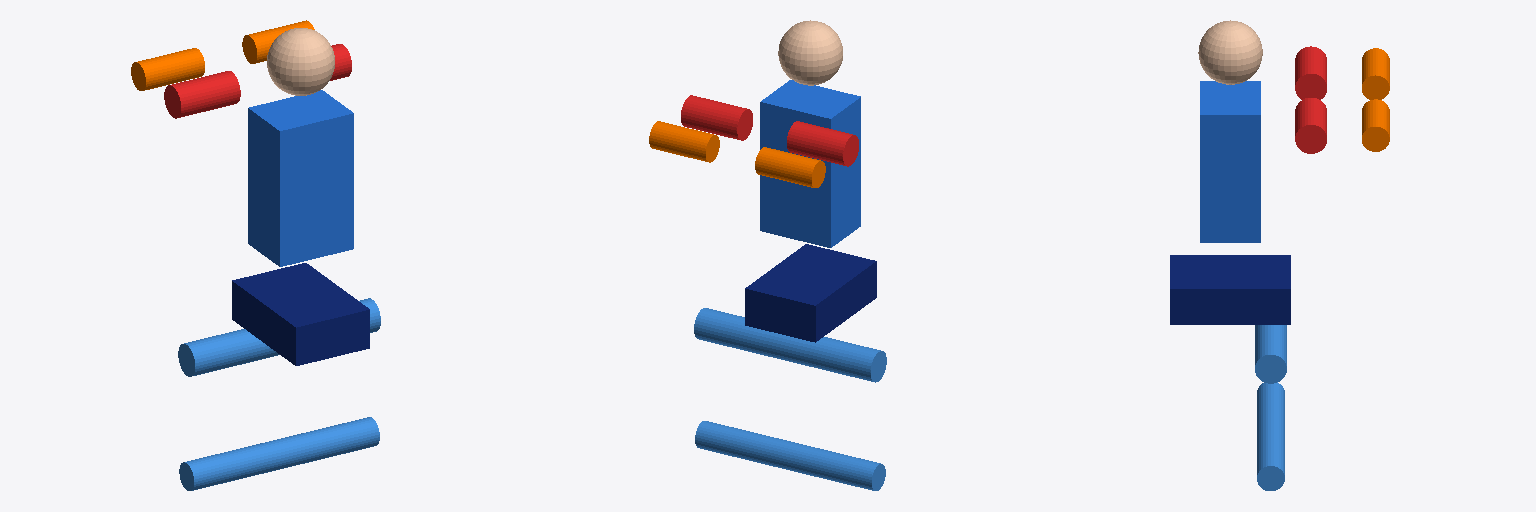
URDF robot description (humanoid_robot_v2):
<?xml version="1.0" ?>
<robot name="humanoid_robot_v2">
  <!-- 简化的人形机器人，带有腿部支撑 -->
  
  <!-- 基座 (脚) -->
  <link name="base_link">
    <inertial>
      <origin xyz="0 0 0.05"/>
      <mass value="3.0"/>
      <inertia ixx="0.05" ixy="0" ixz="0" iyy="0.05" iyz="0" izz="0.08"/>
    </inertial>
    <visual>
      <geometry>
        <box size="0.2 0.3 0.1"/>
      </geometry>
      <origin xyz="0 0 0.05"/>
      <material name="dark_blue">
        <color rgba="0.1 0.2 0.5 1"/>
      </material>
    </visual>
    <collision>
      <geometry>
        <box size="0.2 0.3 0.1"/>
      </geometry>
      <origin xyz="0 0 0.05"/>
    </collision>
  </link>

  <!-- 左腿上部 -->
  <joint name="left_hip" type="revolute">
    <parent link="base_link"/>
    <child link="left_thigh_link"/>
    <origin xyz="-0.1 0.1 0.1" rpy="0 0 0"/>
    <axis xyz="1 0 0"/>
    <limit lower="-0.5" upper="0.5" effort="100" velocity="2.0"/>
  </joint>

  <link name="left_thigh_link">
    <inertial>
      <origin xyz="0 0 -0.15"/>
      <mass value="2.0"/>
      <inertia ixx="0.02" ixy="0" ixz="0" iyy="0.02" iyz="0" izz="0.01"/>
    </inertial>
    <visual>
      <geometry>
        <cylinder length="0.3" radius="0.04"/>
      </geometry>
      <origin xyz="0 0 -0.15" rpy="0 1.5707 0"/>
      <material name="light_blue">
        <color rgba="0.3 0.6 0.9 1"/>
      </material>
    </visual>
    <collision>
      <geometry>
        <cylinder length="0.3" radius="0.04"/>
      </geometry>
      <origin xyz="0 0 -0.15" rpy="0 1.5707 0"/>
    </collision>
  </link>

  <!-- 左腿下部 -->
  <joint name="left_knee" type="revolute">
    <parent link="left_thigh_link"/>
    <child link="left_calf_link"/>
    <origin xyz="0 0 -0.3" rpy="0 0 0"/>
    <axis xyz="1 0 0"/>
    <limit lower="0" upper="0.5" effort="100" velocity="2.0"/>
  </joint>

  <link name="left_calf_link">
    <inertial>
      <origin xyz="0 0 -0.15"/>
      <mass value="1.5"/>
      <inertia ixx="0.015" ixy="0" ixz="0" iyy="0.015" iyz="0" izz="0.005"/>
    </inertial>
    <visual>
      <geometry>
        <cylinder length="0.3" radius="0.035"/>
      </geometry>
      <origin xyz="0 0 -0.15" rpy="0 1.5707 0"/>
      <material name="light_blue">
        <color rgba="0.3 0.6 0.9 1"/>
      </material>
    </visual>
    <collision>
      <geometry>
        <cylinder length="0.3" radius="0.035"/>
      </geometry>
      <origin xyz="0 0 -0.15" rpy="0 1.5707 0"/>
    </collision>
  </link>

  <!-- 右腿上部 -->
  <joint name="right_hip" type="revolute">
    <parent link="base_link"/>
    <child link="right_thigh_link"/>
    <origin xyz="0.1 0.1 0.1" rpy="0 0 0"/>
    <axis xyz="1 0 0"/>
    <limit lower="-0.5" upper="0.5" effort="100" velocity="2.0"/>
  </joint>

  <link name="right_thigh_link">
    <inertial>
      <origin xyz="0 0 -0.15"/>
      <mass value="2.0"/>
      <inertia ixx="0.02" ixy="0" ixz="0" iyy="0.02" iyz="0" izz="0.01"/>
    </inertial>
    <visual>
      <geometry>
        <cylinder length="0.3" radius="0.04"/>
      </geometry>
      <origin xyz="0 0 -0.15" rpy="0 1.5707 0"/>
      <material name="light_blue">
        <color rgba="0.3 0.6 0.9 1"/>
      </material>
    </visual>
    <collision>
      <geometry>
        <cylinder length="0.3" radius="0.04"/>
      </geometry>
      <origin xyz="0 0 -0.15" rpy="0 1.5707 0"/>
    </collision>
  </link>

  <!-- 右腿下部 -->
  <joint name="right_knee" type="revolute">
    <parent link="right_thigh_link"/>
    <child link="right_calf_link"/>
    <origin xyz="0 0 -0.3" rpy="0 0 0"/>
    <axis xyz="1 0 0"/>
    <limit lower="0" upper="0.5" effort="100" velocity="2.0"/>
  </joint>

  <link name="right_calf_link">
    <inertial>
      <origin xyz="0 0 -0.15"/>
      <mass value="1.5"/>
      <inertia ixx="0.015" ixy="0" ixz="0" iyy="0.015" iyz="0" izz="0.005"/>
    </inertial>
    <visual>
      <geometry>
        <cylinder length="0.3" radius="0.035"/>
      </geometry>
      <origin xyz="0 0 -0.15" rpy="0 1.5707 0"/>
      <material name="light_blue">
        <color rgba="0.3 0.6 0.9 1"/>
      </material>
    </visual>
    <collision>
      <geometry>
        <cylinder length="0.3" radius="0.035"/>
      </geometry>
      <origin xyz="0 0 -0.15" rpy="0 1.5707 0"/>
    </collision>
  </link>

  <!-- 躯干 -->
  <joint name="torso_joint" type="fixed">
    <parent link="base_link"/>
    <child link="torso_link"/>
    <origin xyz="0 0 0.25" rpy="0 0 0"/>
  </joint>

  <link name="torso_link">
    <inertial>
      <origin xyz="0 0 0.15"/>
      <mass value="6.0"/>
      <inertia ixx="0.1" ixy="0" ixz="0" iyy="0.1" iyz="0" izz="0.08"/>
    </inertial>
    <visual>
      <geometry>
        <box size="0.2 0.15 0.35"/>
      </geometry>
      <origin xyz="0 0 0.15"/>
      <material name="blue">
        <color rgba="0.2 0.5 0.9 1"/>
      </material>
    </visual>
    <collision>
      <geometry>
        <box size="0.2 0.15 0.35"/>
      </geometry>
      <origin xyz="0 0 0.15"/>
    </collision>
  </link>

  <!-- 左肩关节 -->
  <joint name="left_shoulder" type="revolute">
    <parent link="torso_link"/>
    <child link="left_shoulder_link"/>
    <origin xyz="-0.15 0.12 0.32" rpy="0 0 0"/>
    <axis xyz="1 0 0"/>
    <limit lower="-3.14159" upper="3.14159" effort="200" velocity="3.0"/>
  </joint>

  <link name="left_shoulder_link">
    <inertial>
      <origin xyz="0 0.08 0"/>
      <mass value="1.0"/>
      <inertia ixx="0.01" ixy="0" ixz="0" iyy="0.01" iyz="0" izz="0.01"/>
    </inertial>
    <visual>
      <geometry>
        <cylinder length="0.16" radius="0.04"/>
      </geometry>
      <origin xyz="0 0.08 0" rpy="0 1.5707 0"/>
      <material name="red">
        <color rgba="0.9 0.2 0.2 1"/>
      </material>
    </visual>
    <collision>
      <geometry>
        <cylinder length="0.16" radius="0.04"/>
      </geometry>
      <origin xyz="0 0.08 0" rpy="0 1.5707 0"/>
    </collision>
  </link>

  <!-- 左肘关节 -->
  <joint name="left_elbow" type="revolute">
    <parent link="left_shoulder_link"/>
    <child link="left_forearm_link"/>
    <origin xyz="0 0.16 0" rpy="0 0 0"/>
    <axis xyz="1 0 0"/>
    <limit lower="0" upper="3.14159" effort="200" velocity="3.0"/>
  </joint>

  <link name="left_forearm_link">
    <inertial>
      <origin xyz="0 0.08 0"/>
      <mass value="0.8"/>
      <inertia ixx="0.008" ixy="0" ixz="0" iyy="0.008" iyz="0" izz="0.008"/>
    </inertial>
    <visual>
      <geometry>
        <cylinder length="0.16" radius="0.035"/>
      </geometry>
      <origin xyz="0 0.08 0" rpy="0 1.5707 0"/>
      <material name="orange">
        <color rgba="1.0 0.5 0.0 1"/>
      </material>
    </visual>
    <collision>
      <geometry>
        <cylinder length="0.16" radius="0.035"/>
      </geometry>
      <origin xyz="0 0.08 0" rpy="0 1.5707 0"/>
    </collision>
  </link>

  <!-- 右肩关节 -->
  <joint name="right_shoulder" type="revolute">
    <parent link="torso_link"/>
    <child link="right_shoulder_link"/>
    <origin xyz="0.15 0.12 0.32" rpy="0 0 0"/>
    <axis xyz="1 0 0"/>
    <limit lower="-3.14159" upper="3.14159" effort="200" velocity="3.0"/>
  </joint>

  <link name="right_shoulder_link">
    <inertial>
      <origin xyz="0 0.08 0"/>
      <mass value="1.0"/>
      <inertia ixx="0.01" ixy="0" ixz="0" iyy="0.01" iyz="0" izz="0.01"/>
    </inertial>
    <visual>
      <geometry>
        <cylinder length="0.16" radius="0.04"/>
      </geometry>
      <origin xyz="0 0.08 0" rpy="0 1.5707 0"/>
      <material name="red">
        <color rgba="0.9 0.2 0.2 1"/>
      </material>
    </visual>
    <collision>
      <geometry>
        <cylinder length="0.16" radius="0.04"/>
      </geometry>
      <origin xyz="0 0.08 0" rpy="0 1.5707 0"/>
    </collision>
  </link>

  <!-- 右肘关节 -->
  <joint name="right_elbow" type="revolute">
    <parent link="right_shoulder_link"/>
    <child link="right_forearm_link"/>
    <origin xyz="0 0.16 0" rpy="0 0 0"/>
    <axis xyz="1 0 0"/>
    <limit lower="0" upper="3.14159" effort="200" velocity="3.0"/>
  </joint>

  <link name="right_forearm_link">
    <inertial>
      <origin xyz="0 0.08 0"/>
      <mass value="0.8"/>
      <inertia ixx="0.008" ixy="0" ixz="0" iyy="0.008" iyz="0" izz="0.008"/>
    </inertial>
    <visual>
      <geometry>
        <cylinder length="0.16" radius="0.035"/>
      </geometry>
      <origin xyz="0 0.08 0" rpy="0 1.5707 0"/>
      <material name="orange">
        <color rgba="1.0 0.5 0.0 1"/>
      </material>
    </visual>
    <collision>
      <geometry>
        <cylinder length="0.16" radius="0.035"/>
      </geometry>
      <origin xyz="0 0.08 0" rpy="0 1.5707 0"/>
    </collision>
  </link>

  <!-- 头部 (装饰) -->
  <joint name="head_joint" type="fixed">
    <parent link="torso_link"/>
    <child link="head_link"/>
    <origin xyz="0 0 0.35" rpy="0 0 0"/>
  </joint>

  <link name="head_link">
    <inertial>
      <origin xyz="0 0 0.1"/>
      <mass value="1.2"/>
      <inertia ixx="0.01" ixy="0" ixz="0" iyy="0.01" iyz="0" izz="0.01"/>
    </inertial>
    <visual>
      <geometry>
        <sphere radius="0.08"/>
      </geometry>
      <origin xyz="0 0 0.1"/>
      <material name="skin">
        <color rgba="0.95 0.80 0.69 1"/>
      </material>
    </visual>
    <collision>
      <geometry>
        <sphere radius="0.08"/>
      </geometry>
      <origin xyz="0 0 0.1"/>
    </collision>
  </link>

</robot>

--- Facts derived from the render (not from the file) ---
3 views of the same robot in one strip: view 1: azimuth 30°, elevation 25°; view 2: azimuth 150°, elevation 25°; view 3: azimuth 270°, elevation 25° (orthographic).
Robot: humanoid_robot_v2 — 11 links, 10 joints (8 revolute, 2 fixed); root link base_link; default pose: every joint at zero.
Visible links, largest first — view 1: torso_link, base_link, head_link, left_calf_link, left_thigh_link, right_calf_link, left_shoulder_link, left_forearm_link, right_forearm_link, right_shoulder_link; view 2: torso_link, base_link, head_link, left_thigh_link, left_calf_link, right_thigh_link, right_calf_link, right_shoulder_link, left_shoulder_link, left_forearm_link, right_forearm_link; view 3: torso_link, base_link, head_link, right_thigh_link, right_shoulder_link, left_shoulder_link, right_calf_link, left_calf_link, right_forearm_link, left_forearm_link.
Boxes of the visible links, box(x1,y1,x2,y2) form: torso_link: box(248, 90, 353, 266); base_link: box(232, 263, 369, 365); head_link: box(267, 28, 334, 95); left_calf_link: box(179, 435, 305, 490); left_thigh_link: box(178, 329, 269, 376); right_calf_link: box(266, 417, 379, 472); left_shoulder_link: box(164, 71, 240, 118); left_forearm_link: box(131, 48, 204, 90); right_forearm_link: box(242, 20, 314, 63); right_shoulder_link: box(330, 44, 351, 80); torso_link: box(760, 80, 860, 247); base_link: box(745, 244, 876, 342); head_link: box(778, 20, 842, 85); left_thigh_link: box(765, 331, 886, 382); left_calf_link: box(766, 438, 885, 490); right_thigh_link: box(694, 308, 802, 364); right_calf_link: box(695, 421, 803, 473); right_shoulder_link: box(681, 95, 752, 140); left_shoulder_link: box(787, 121, 858, 166); left_forearm_link: box(755, 147, 825, 187); right_forearm_link: box(649, 121, 719, 162); torso_link: box(1200, 81, 1260, 242); base_link: box(1170, 255, 1290, 324); head_link: box(1198, 20, 1262, 84); right_thigh_link: box(1255, 325, 1286, 383); right_shoulder_link: box(1295, 98, 1326, 153); left_shoulder_link: box(1295, 46, 1326, 99); right_calf_link: box(1257, 432, 1284, 490); left_calf_link: box(1257, 382, 1284, 440); right_forearm_link: box(1362, 99, 1389, 151); left_forearm_link: box(1362, 48, 1389, 99).
Bounding box of the posed robot: 0.5 × 0.545 × 1.17 m (x, y, z).
Geometry: primitives only (box / cylinder / sphere), no mesh files.
